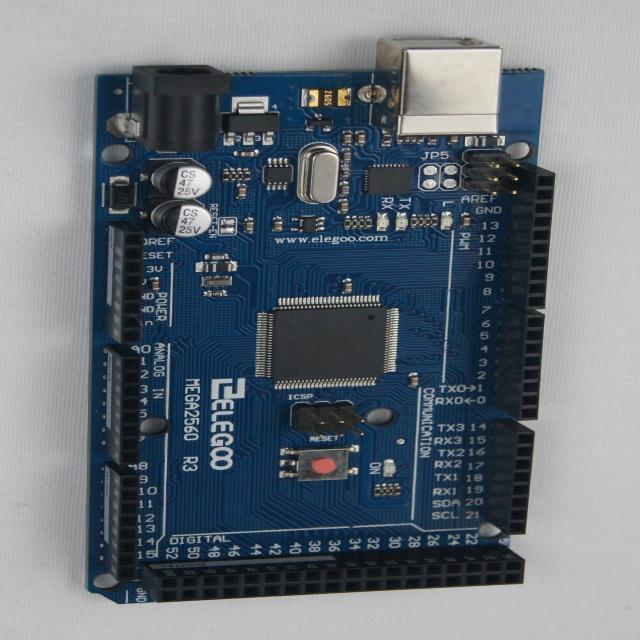Arduino Mega 2560 -Blue-: (87, 39, 555, 604)
